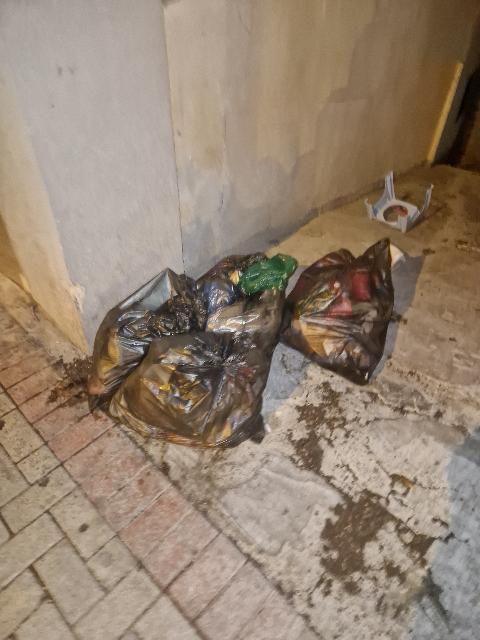Other: (365, 172, 433, 233)
Recyclable -Grey-: (109, 332, 270, 447), (282, 238, 394, 384), (89, 268, 207, 396), (196, 253, 285, 350)
